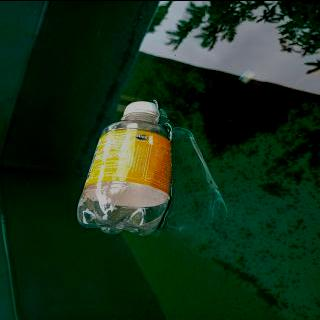bottle: (72, 98, 178, 238)
